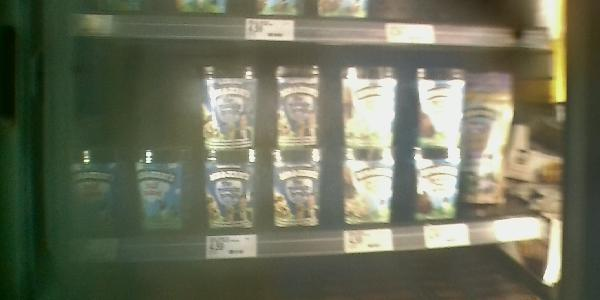icecream: (65, 144, 130, 233), (337, 67, 397, 147), (134, 145, 186, 231), (201, 64, 255, 146), (268, 149, 323, 228), (410, 65, 464, 144), (205, 148, 256, 228), (344, 147, 393, 228), (276, 65, 321, 145), (412, 148, 458, 219)
